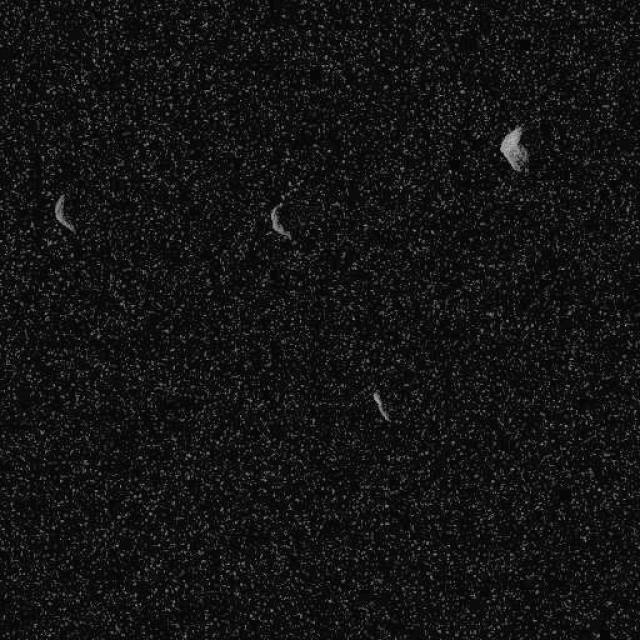D2: (499, 124, 529, 172), (52, 191, 76, 234), (268, 200, 292, 241), (370, 390, 391, 422)
